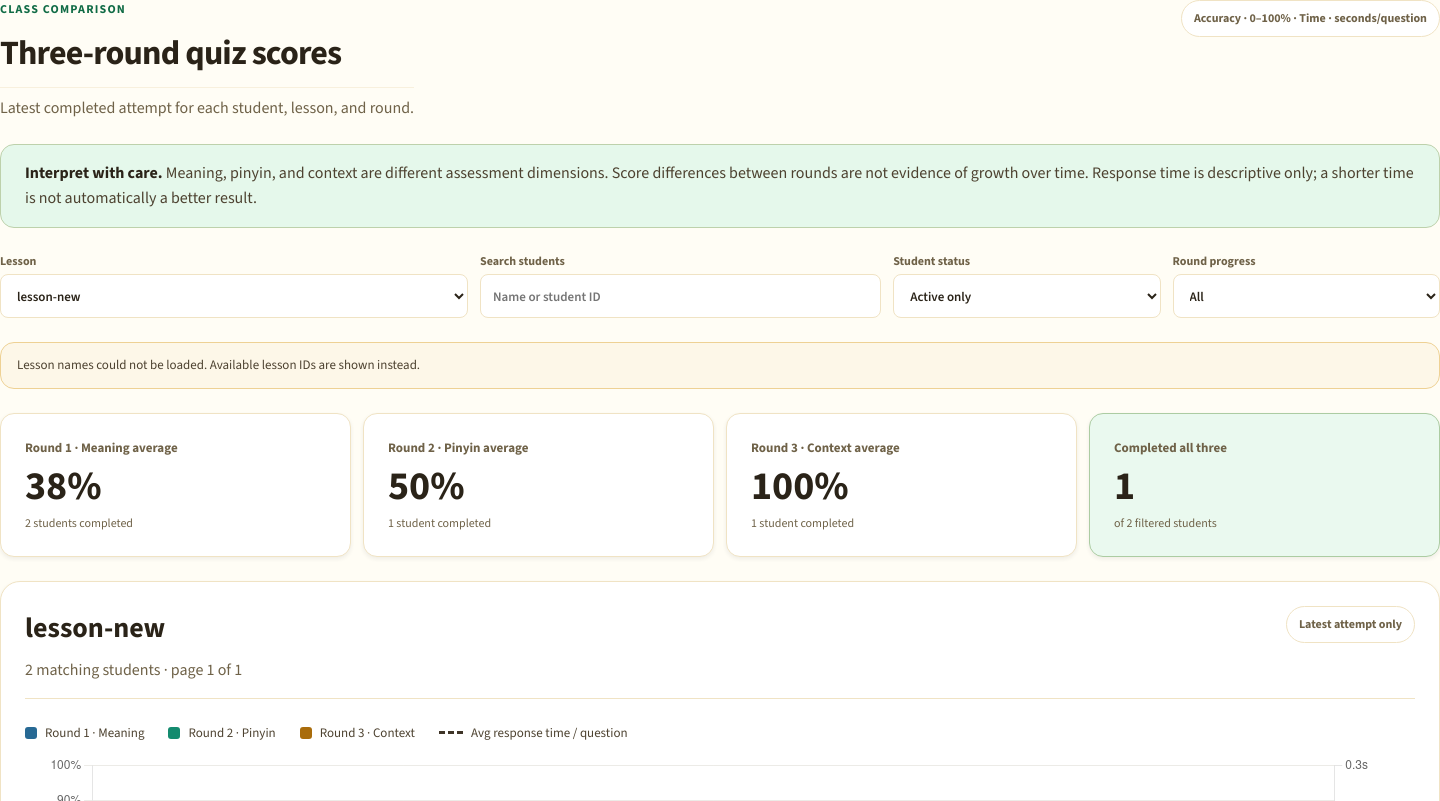
Test case: RoundScoresPanel › shows ID fallback and a useful empty state when lesson titles or filters are unavailable
The image size is (1440, 801).
Check: the text "Lesson names could not be loaded. Available lesson IDs are shown instead." is shown, box [0, 342, 1439, 389]
Type "does-not-exist" into the search field labelled "Search students" at x=681, y=296, box [480, 274, 881, 318]
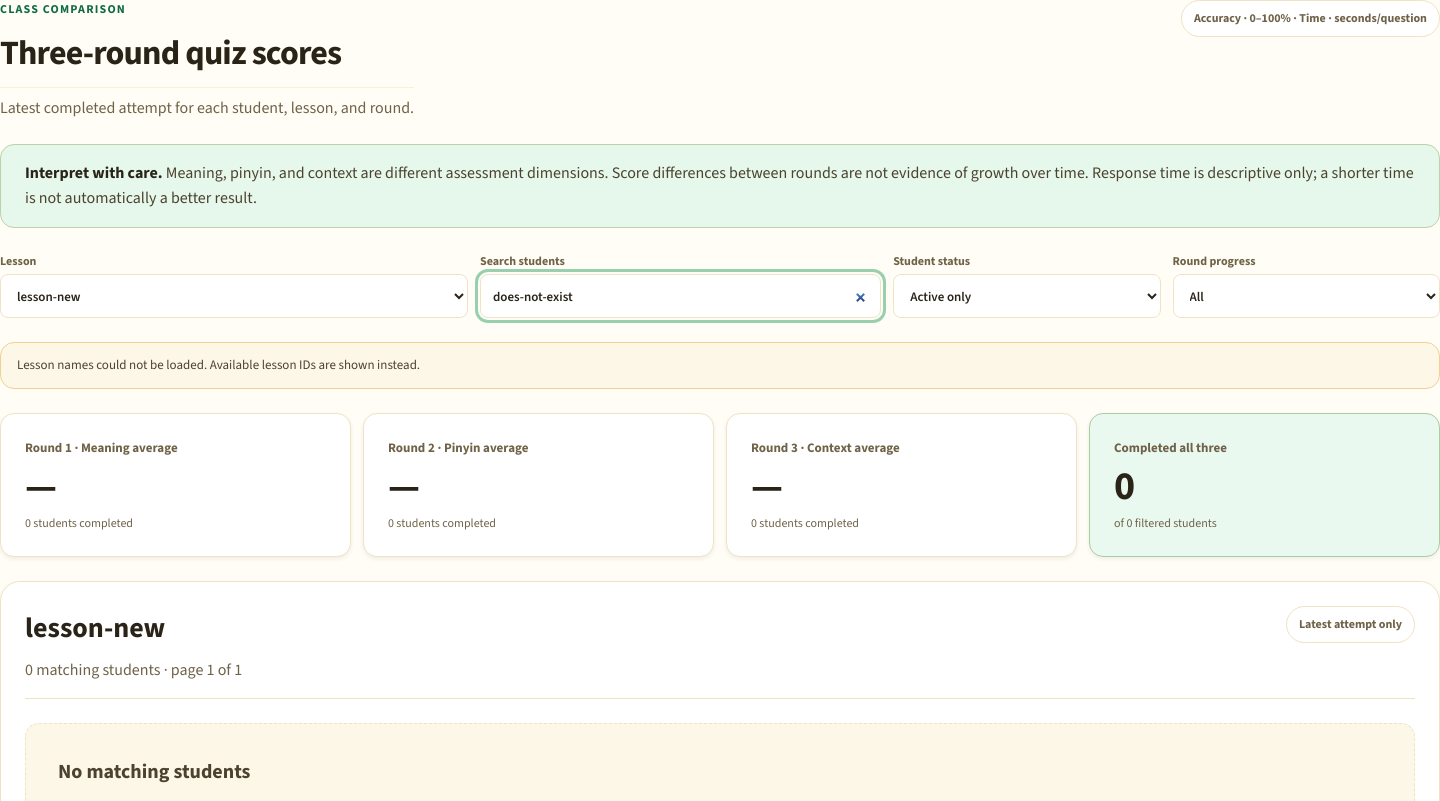
Check: the text "No matching students" is shown, box [58, 756, 250, 792]
